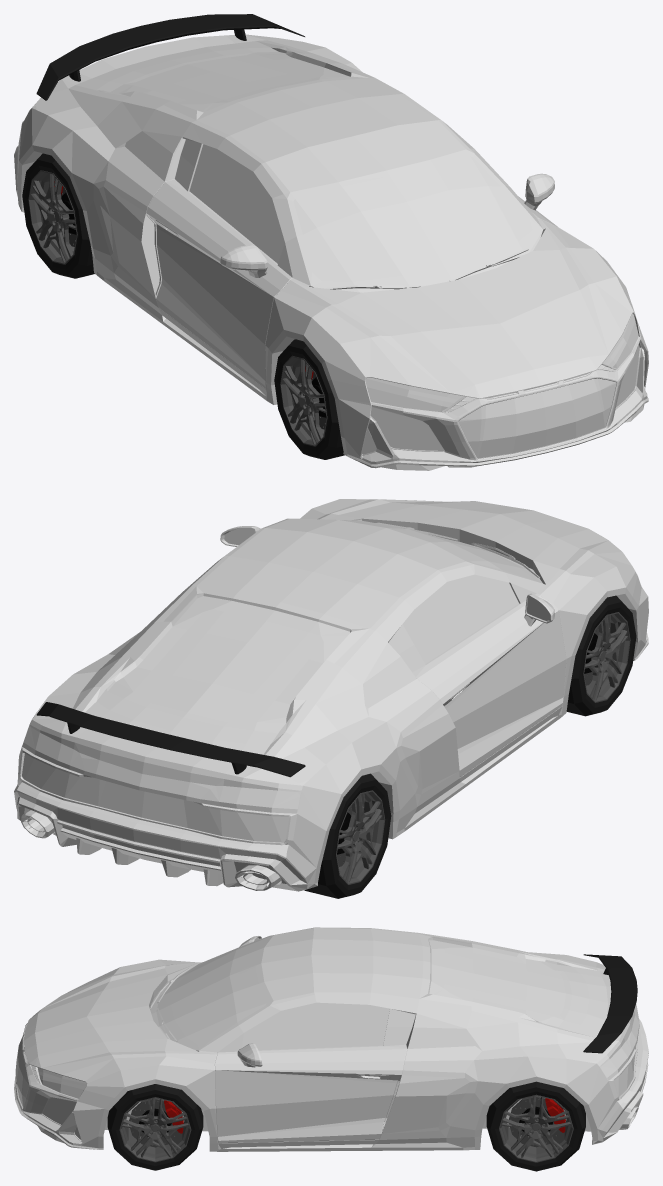
File: LP_Veh_Sports_02.fbx
3 views of the same model, one above another, from view 1: azimuth 30°, elevation 25°; view 2: azimuth 150°, elevation 25°; view 3: azimuth 270°, elevation 25° (orthographic). The views are drawn at different scales.
Visible parts, largest first — view 1: LP_Veh_Sports_02, LP_Veh_Sports_Glass_001_02, LP_Veh_Sports_Wheel_004_02, LP_Veh_Sports_Wheel_002_02, LP_Veh_Sports_Spoiler__02, LP_Veh_Sports_Glass_002_02; view 2: LP_Veh_Sports_02, LP_Veh_Sports_Glass_001_02, LP_Veh_Sports_Wheel_004_02, LP_Veh_Sports_Wheel_002_02, LP_Veh_Sports_Spoiler__02, LP_Veh_Sports_Glass_003_02; view 3: LP_Veh_Sports_02, LP_Veh_Sports_Glass_001_02, LP_Veh_Sports_Wheel_003_02, LP_Veh_Sports_Wheel_001_02, LP_Veh_Sports_Spoiler__02, LP_Veh_Sports_Brake disk_003_02, LP_Veh_Sports_Brake disk_001_02, LP_Veh_Sports_Glass_002_02, LP_Veh_Sports_Glass_003_02.
Boxes of the visible parts, x1,y1,x2,y2 form: LP_Veh_Sports_02: (14,34,648,470); LP_Veh_Sports_Glass_001_02: (133,55,532,282); LP_Veh_Sports_Wheel_004_02: (22,153,94,278); LP_Veh_Sports_Wheel_002_02: (274,339,344,459); LP_Veh_Sports_Spoiler__02: (36,14,304,100); LP_Veh_Sports_Glass_002_02: (365,313,638,411); LP_Veh_Sports_02: (14,499,648,891); LP_Veh_Sports_Glass_001_02: (133,520,532,724); LP_Veh_Sports_Wheel_004_02: (304,773,391,898); LP_Veh_Sports_Wheel_002_02: (566,595,636,716); LP_Veh_Sports_Spoiler__02: (36,702,305,777); LP_Veh_Sports_Glass_003_02: (22,727,300,813); LP_Veh_Sports_02: (14,927,648,1151); LP_Veh_Sports_Glass_001_02: (171,938,565,1050); LP_Veh_Sports_Wheel_003_02: (486,1081,585,1171); LP_Veh_Sports_Wheel_001_02: (107,1084,203,1170); LP_Veh_Sports_Spoiler__02: (583,954,637,1053); LP_Veh_Sports_Brake disk_003_02: (509,1096,565,1147); LP_Veh_Sports_Brake disk_001_02: (129,1098,183,1147); LP_Veh_Sports_Glass_002_02: (37,1067,86,1098); LP_Veh_Sports_Glass_003_02: (601,1040,634,1080).
Size of the model in its own units: 2.52 by 1.53 by 5.45.
